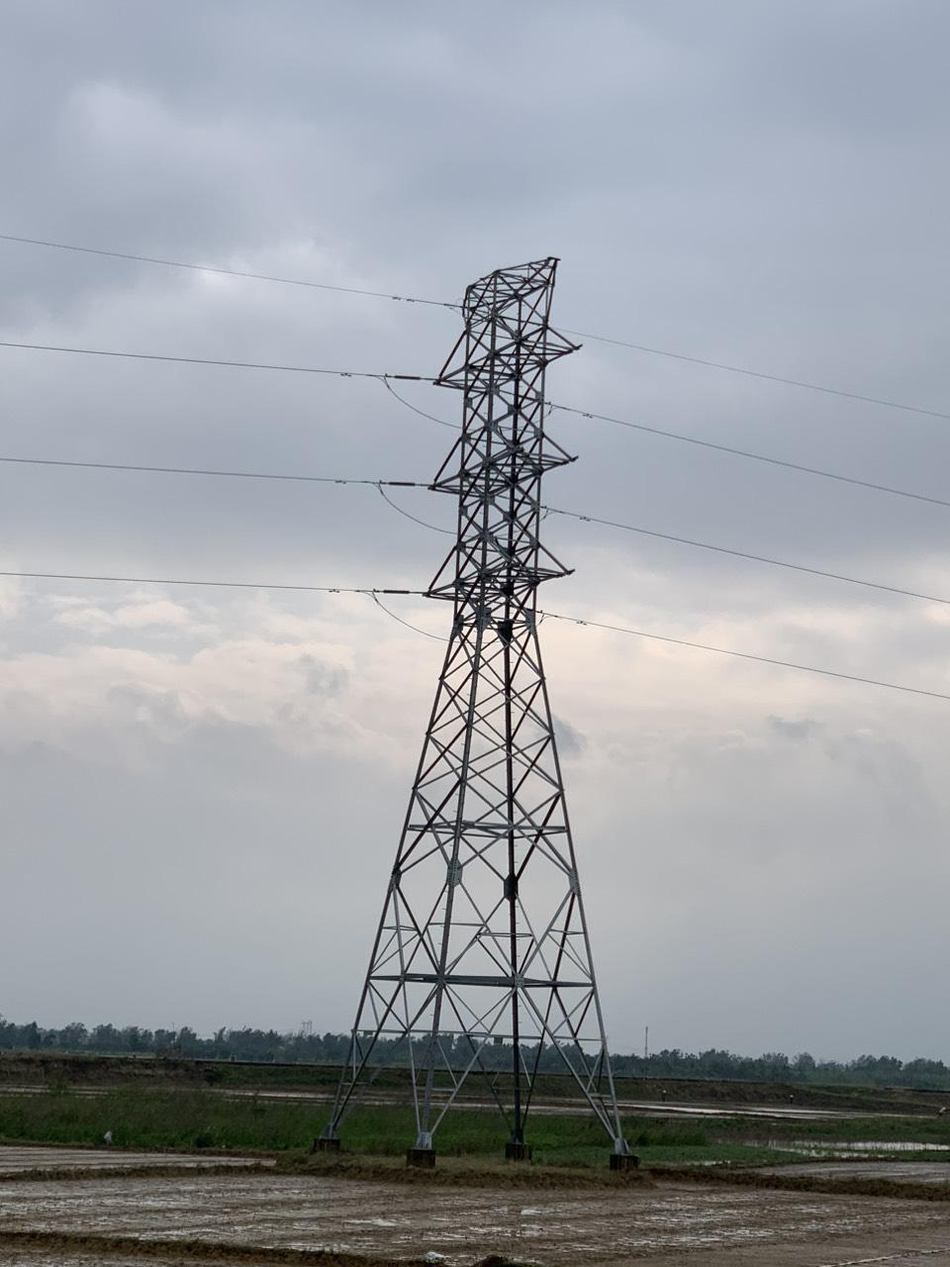power_tower: (333, 245, 631, 1172)
